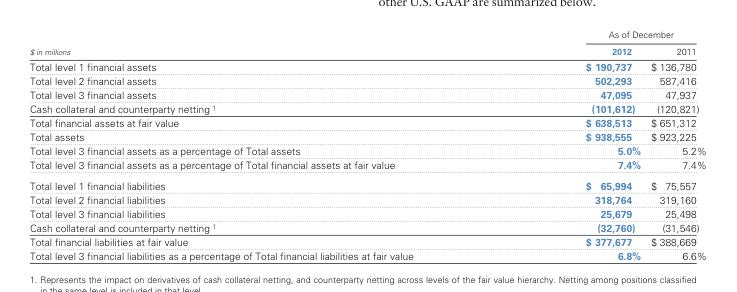table: (28, 28, 705, 261)
table column: (28, 28, 498, 261), (498, 28, 645, 261), (645, 28, 705, 261)
table column header: (28, 28, 705, 58)
table row: (28, 174, 705, 192), (28, 157, 705, 174), (28, 42, 705, 58), (28, 58, 705, 73), (28, 28, 705, 42), (28, 73, 705, 87), (28, 87, 705, 101), (28, 101, 705, 115), (28, 115, 705, 129), (28, 129, 705, 143), (28, 143, 705, 157), (28, 192, 705, 206), (28, 206, 705, 220), (28, 220, 705, 234), (28, 234, 705, 248), (28, 248, 705, 261)
table spanning cell: (28, 28, 498, 58), (498, 28, 705, 42)
